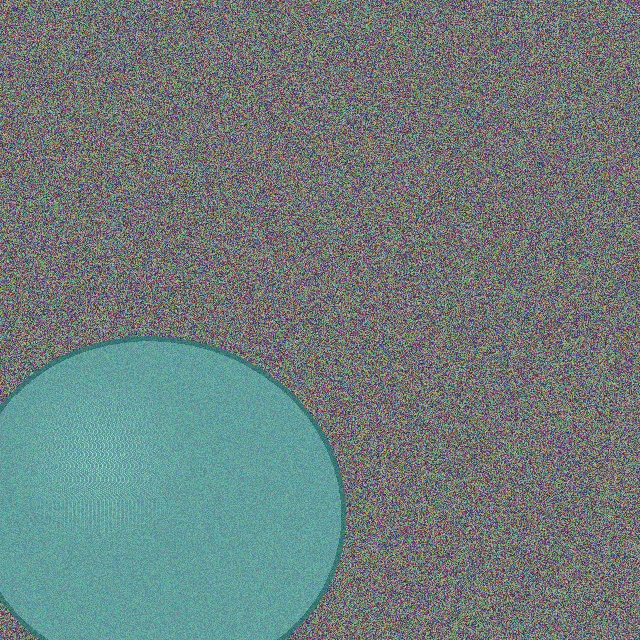lens: (0, 338, 343, 640)
